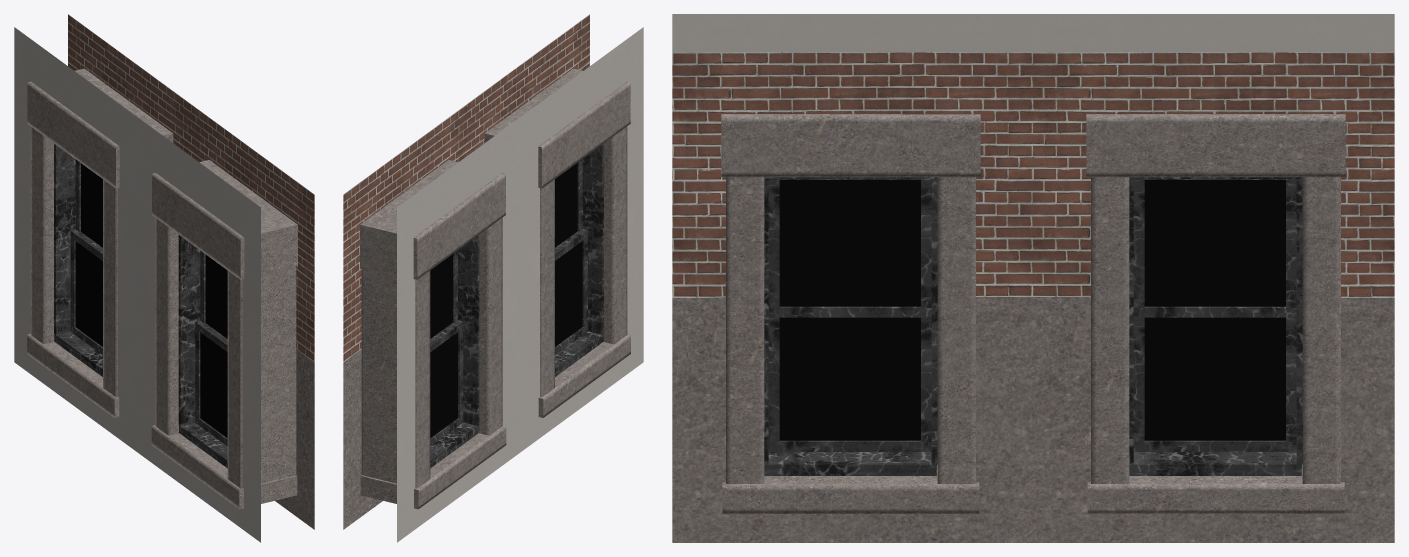
Rendered from BuildingB_Bottom_Wall_VarB_mdl.fbx.
The picture shows the model from 3 angles, left to right: view 1: azimuth 30°, elevation 25°; view 2: azimuth 150°, elevation 25°; view 3: azimuth 270°, elevation 25°; orthographic projection. The views are drawn at different scales.
Visible parts, largest first — view 1: BuildingB_Bottom_Wall_VarB_LOD0; view 2: BuildingB_Bottom_Wall_VarB_LOD0; view 3: BuildingB_Bottom_Wall_VarB_LOD0.
Part boxes in pixels (x1,y1,x2,y2): BuildingB_Bottom_Wall_VarB_LOD0: (14, 14, 314, 542); BuildingB_Bottom_Wall_VarB_LOD0: (343, 14, 643, 542); BuildingB_Bottom_Wall_VarB_LOD0: (672, 14, 1394, 542).
Size of what is drawn, in the model's own units: 58.68 by 300 by 400.
